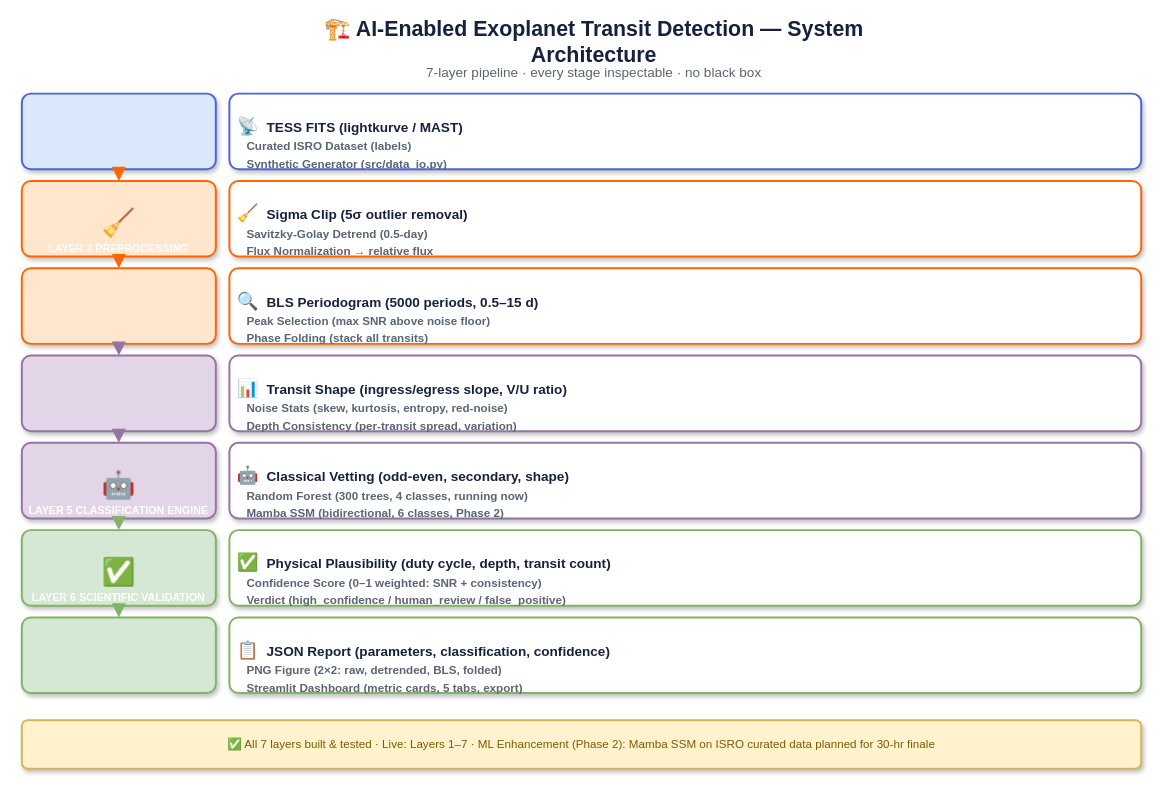
Image size: 1164x793. Some labels were removed from this diagram. The centre of each missing label's shape, as x and y in pixels:
📊 LAYER 4 FEATURE ENGINEERING: the point at 119,394
📋 LAYER 7 OUTPUT & PRESENTATION: the point at 119,656
📡 LAYER 1 DATA INGESTION: the point at 119,132
🔍 LAYER 3 SIGNAL DETECTION: the point at 119,307
